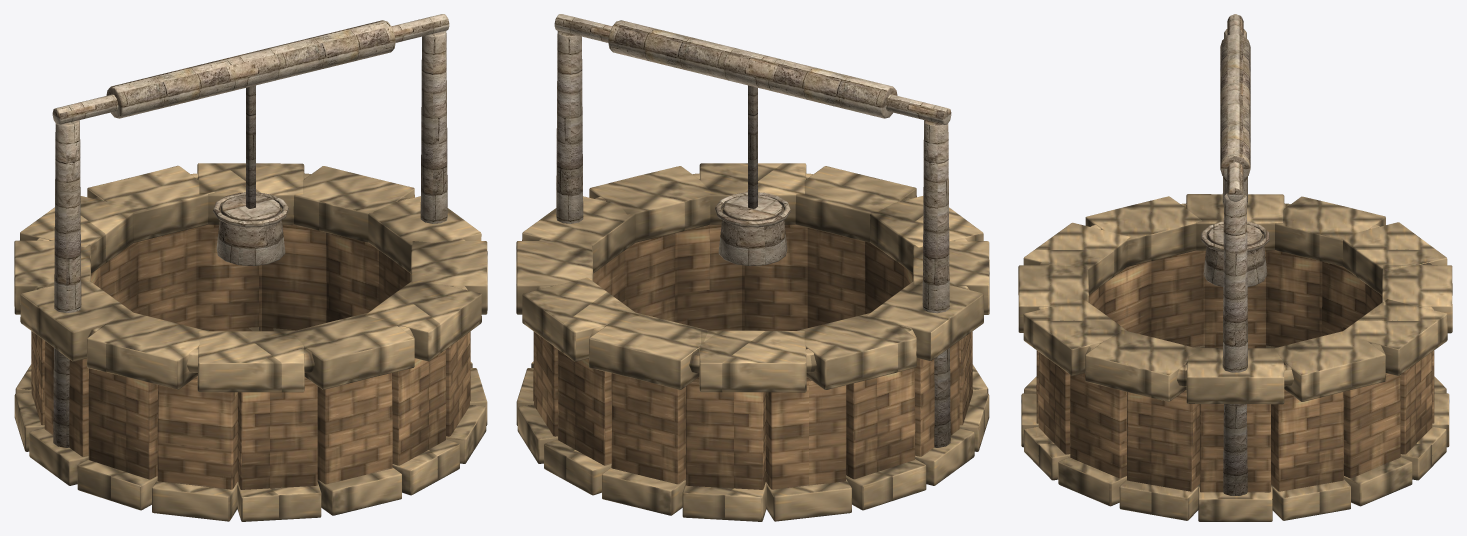
Rendered from p_well.glb.
The picture shows the model from 3 angles, left to right: view 1: azimuth 30°, elevation 25°; view 2: azimuth 150°, elevation 25°; view 3: azimuth 270°, elevation 25°; orthographic projection. The views are drawn at different scales.
Visible parts, largest first — view 1: well; view 2: well; view 3: well.
Part boxes in pixels (x1,y1,x2,y2): well: (14, 14, 487, 521); well: (516, 14, 989, 521); well: (1018, 14, 1452, 521).
Bounding box in the file's own units: 2.84 × 2.44 × 2.84.
Materials: 3 (3 with a texture image).
